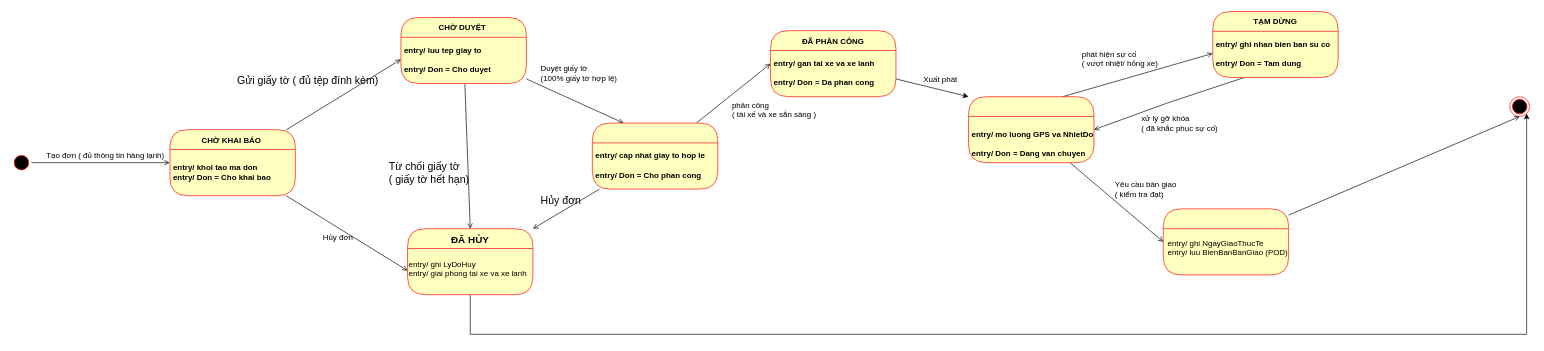
Image size: 1544x351. Some labels were removed from this diagram. The shapes that lost their labels are listed below. From the top down, each one's box as (x1, y1, x2, y2) in pixels, then its label:
(968, 96, 1094, 163): ĐANG VẬN CHUYÊN·
(592, 122, 718, 189): CHỜ PHÂN CÔNG
(1163, 208, 1289, 275): ĐÃ BÀN GIAO
